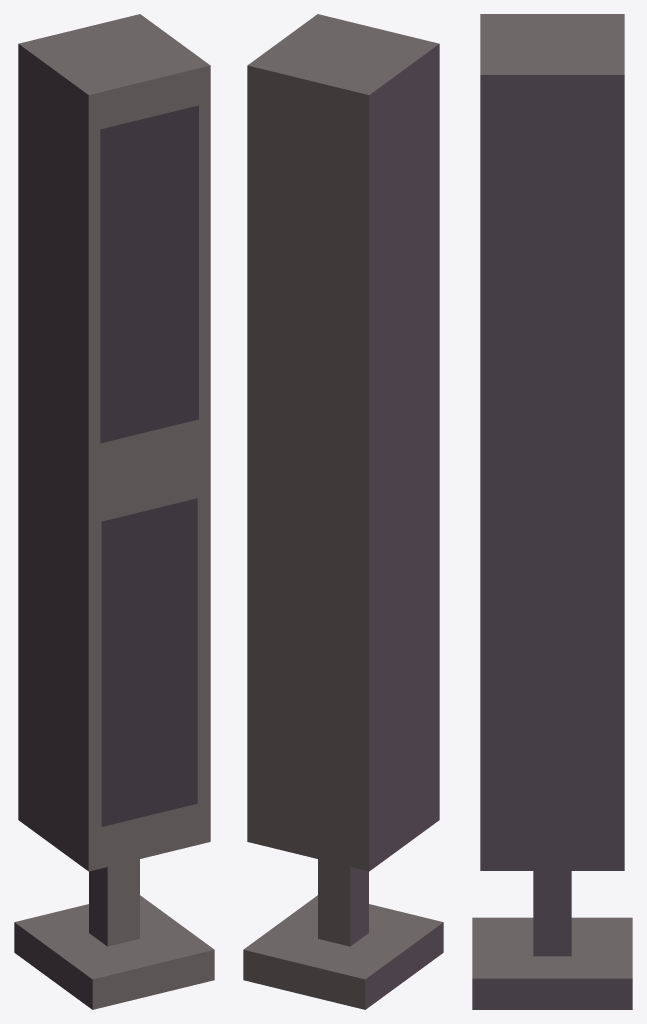
The model's file is Speaker.fbx.
The picture shows the model from 3 angles, left to right: view 1: azimuth 30°, elevation 25°; view 2: azimuth 150°, elevation 25°; view 3: azimuth 270°, elevation 25°; orthographic projection. The views are drawn at different scales.
Parts seen in each view (by area): view 1: Speaker; view 2: Speaker; view 3: Speaker.
Boxes of the visible parts, box(x1,y1,x2,y2) form: Speaker: box(14, 14, 214, 1009); Speaker: box(243, 14, 443, 1009); Speaker: box(472, 14, 632, 1009).
Size of the model in its own units: 37.48 by 268 by 41.64.
